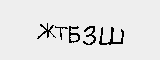Б: (66, 23, 82, 44)
Ж: (34, 23, 56, 40)
З: (82, 24, 98, 45)
Т: (55, 22, 67, 44)
Ш: (98, 27, 129, 44)
